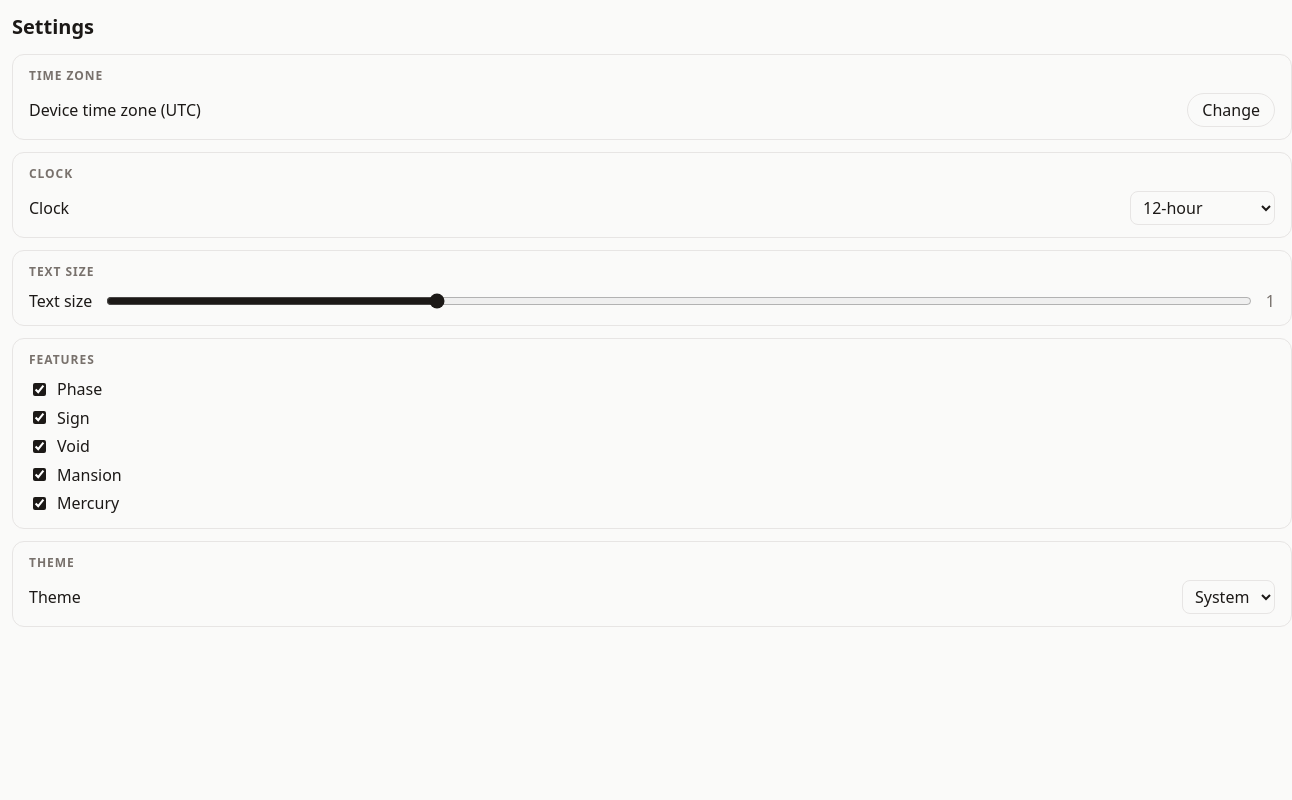
the text size control saves and sets the root variable
The width and height of the screenshot is (1292, 800).
Expected: the text "1" is shown, [1266,289,1275,313]
Set the slider labelled "Text size" to "1.25" at (840, 301), box [106,293,1252,309]
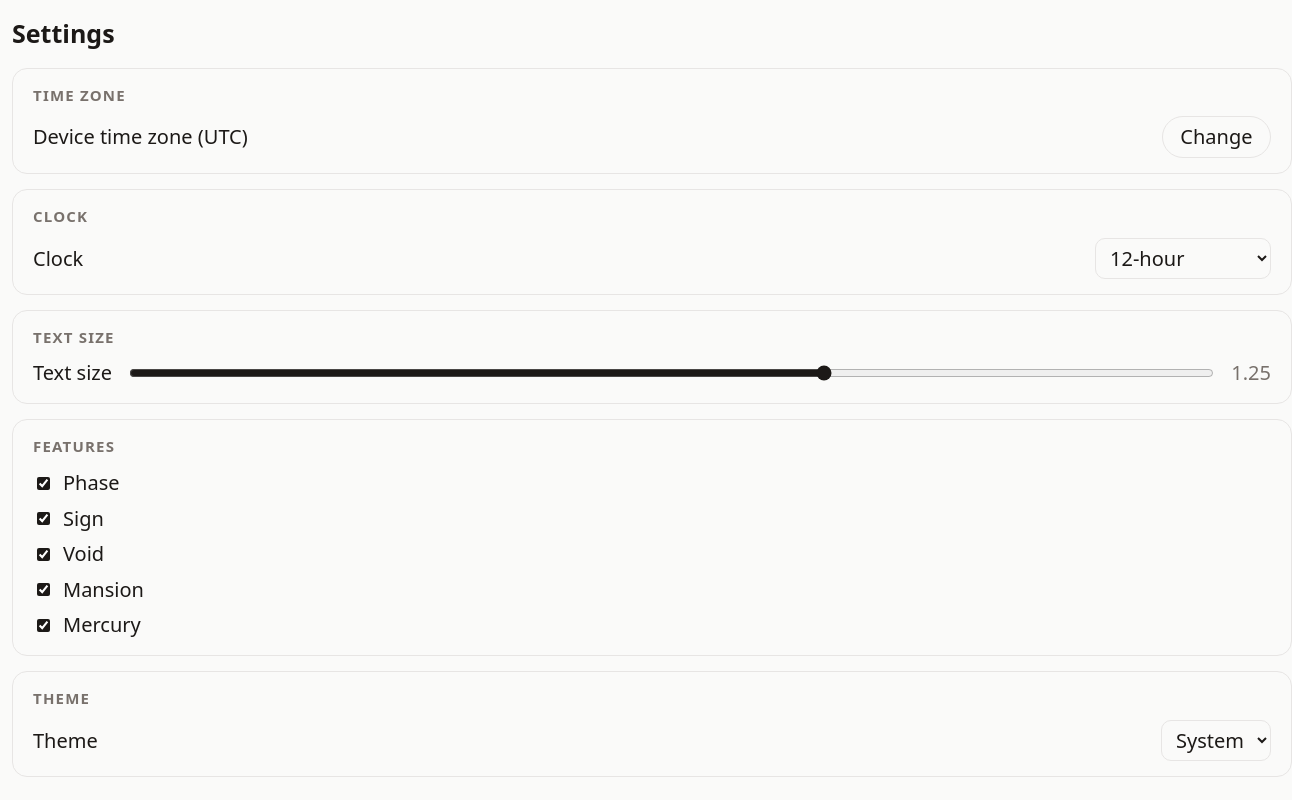
Result: the text "1.25" is shown at [1231,358,1271,388]
